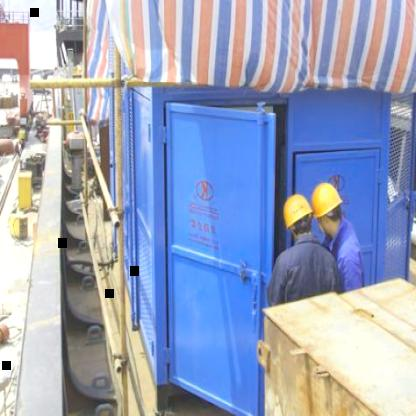helmet: (307, 177, 344, 221), (280, 189, 314, 231)
